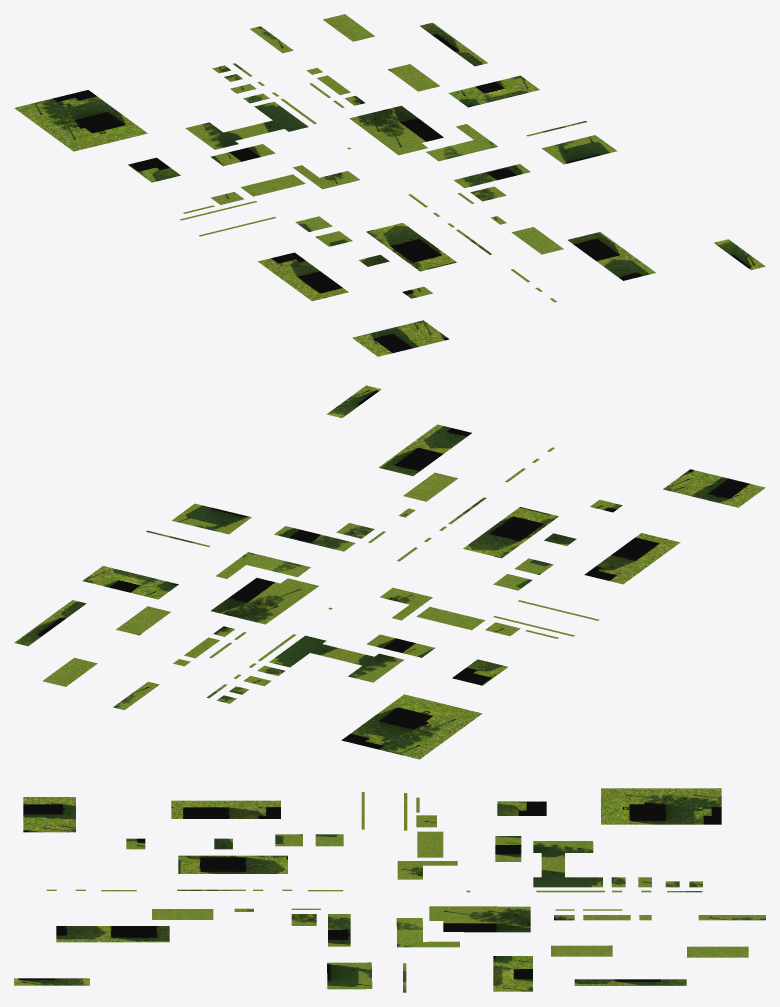
The picture shows the model from 3 angles, top to bottom: view 1: azimuth 30°, elevation 25°; view 2: azimuth 150°, elevation 25°; view 3: azimuth 270°, elevation 25°; orthographic projection. The views are drawn at different scales.
Visible parts, largest first — view 1: grass.002; view 2: grass.002; view 3: grass.002.
Boxes of the visible parts, x1,y1,x2,y2 form: grass.002: (14, 14, 765, 356); grass.002: (14, 385, 765, 759); grass.002: (14, 788, 765, 992).
Bounding box in the file's own units: 101 × 0.00961 × 158.
Materials: 1 (1 with a texture image).
